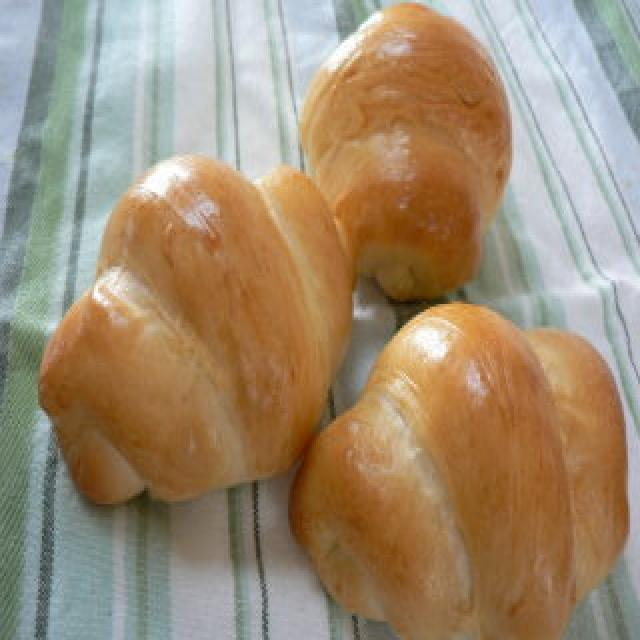面包点心: (32, 0, 640, 640)
